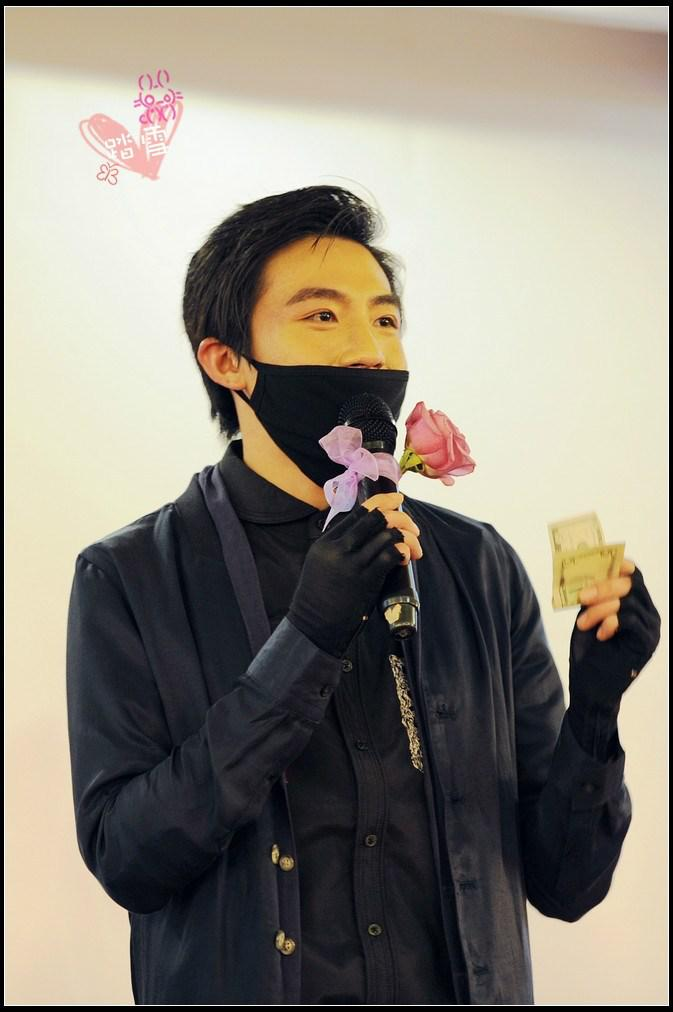WRONG: (258, 270, 435, 447)
